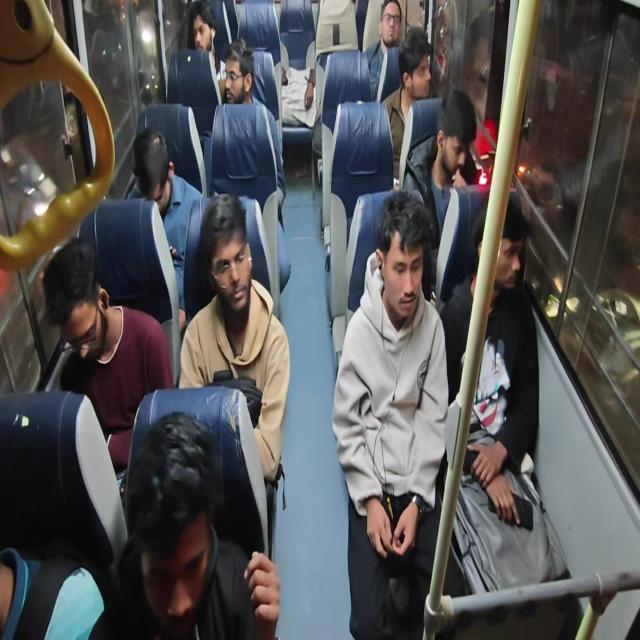person: (120, 412, 220, 635), (38, 242, 114, 372), (199, 198, 265, 329), (374, 186, 430, 322), (476, 203, 532, 300), (130, 123, 177, 220), (436, 89, 473, 178), (221, 40, 256, 111), (401, 28, 434, 100), (188, 5, 222, 61), (378, 0, 404, 50)
